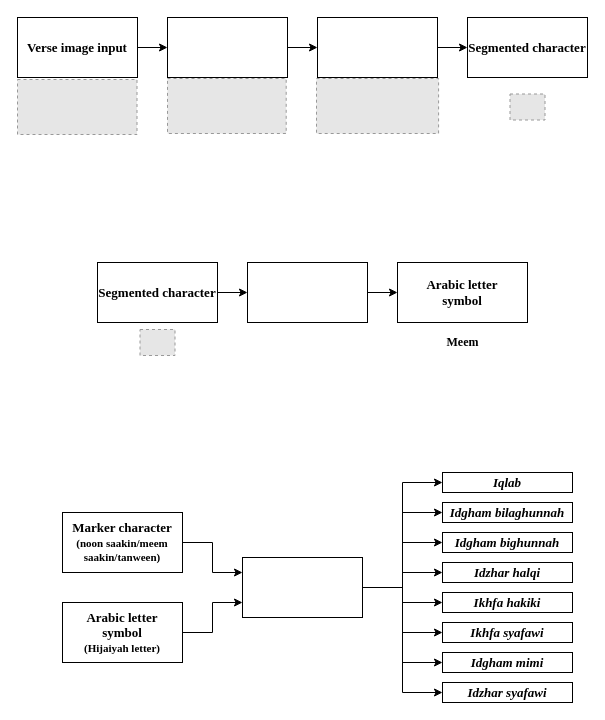
The diagram is 605 pixels wide and 720 high, and some of its shapes have lost their labels. Grey dashed boxes stand in for pictures. Each missing label, with the centre of its shape:
"CNN Architecture" goes at (307,292).
"Marker character detection (template matching)" goes at (227,47).
"Segmentation" goes at (377,47).
"Tajweed rules" goes at (302,587).
